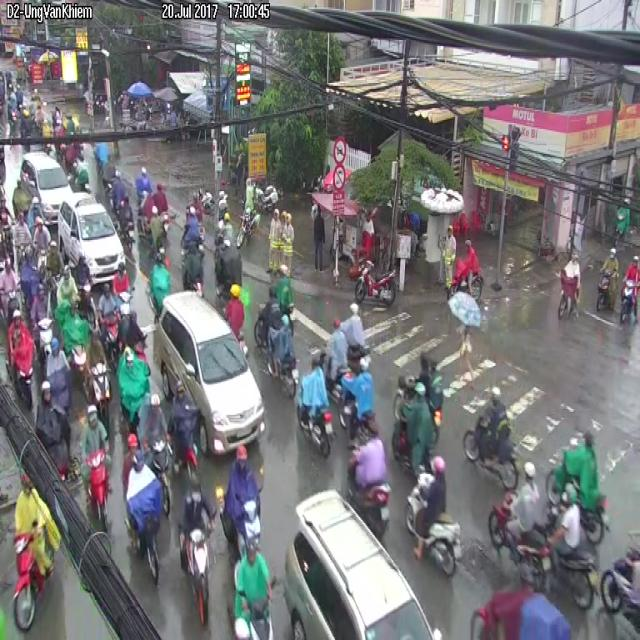car: (406, 456, 461, 575), (297, 351, 332, 455), (348, 433, 389, 505)
traffic-light: (154, 292, 264, 453), (58, 201, 125, 283)
